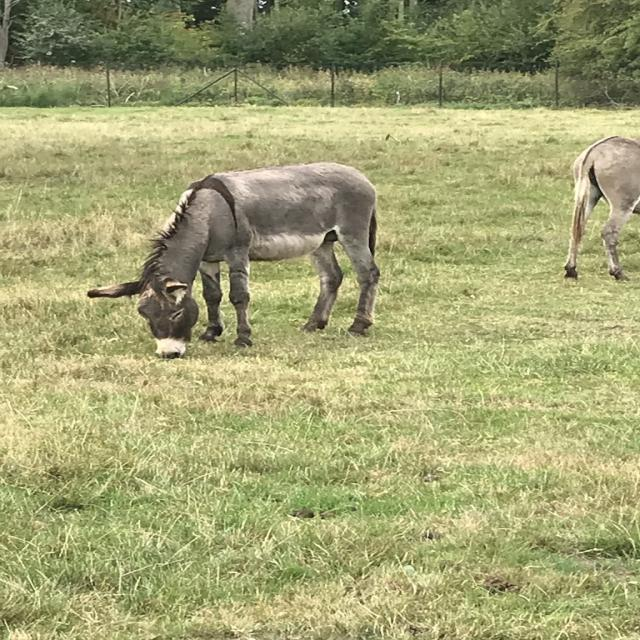Donkey: (84, 158, 382, 360), (560, 133, 638, 282)
